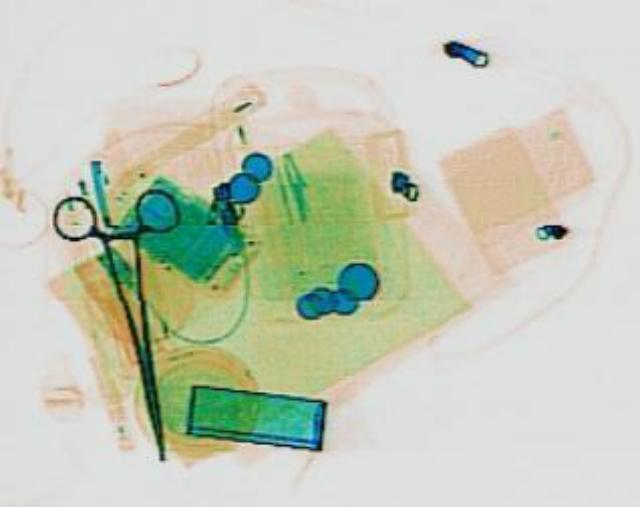Scissors: (44, 182, 222, 463)
